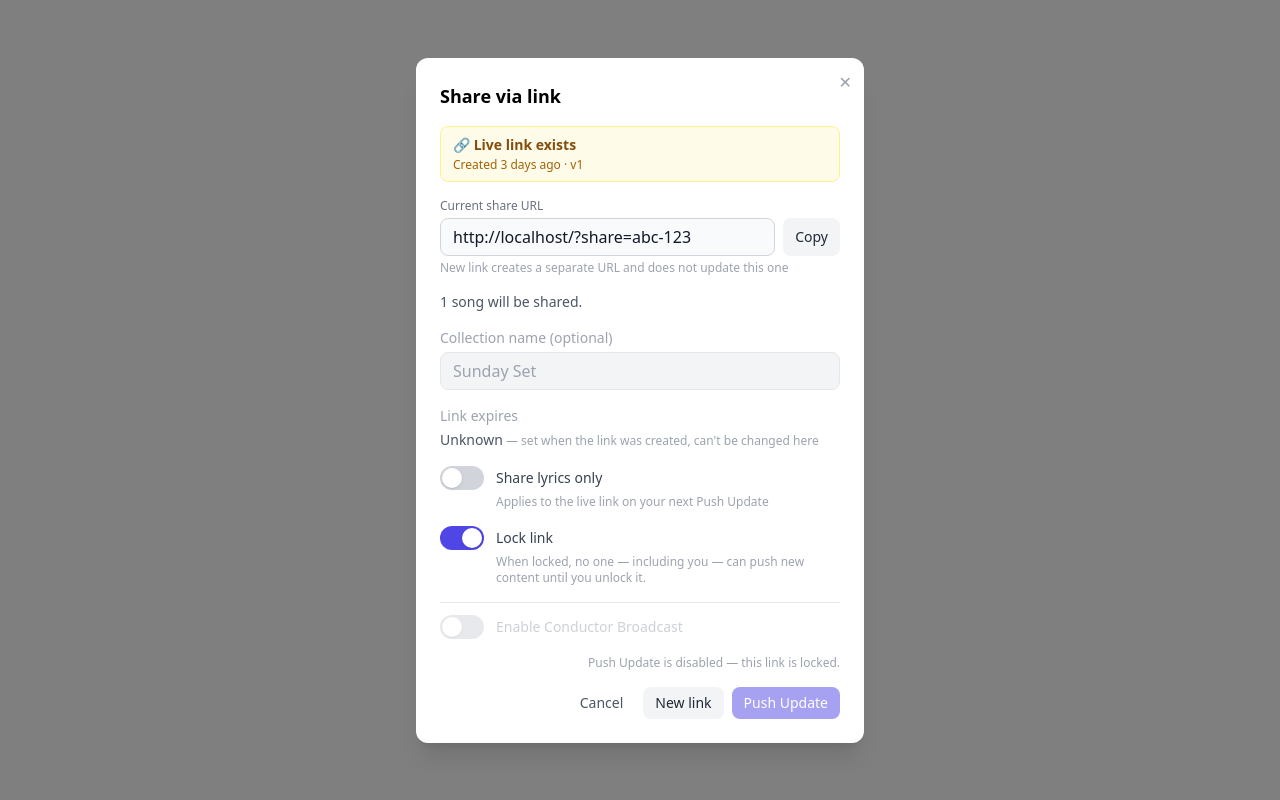
Test: ShareModal — update mode › unlocking with the correct PIN clears the lock and enables Push Update
Click the switch labelled "Lock link".
click(462, 538)  # box [440,526,840,550]
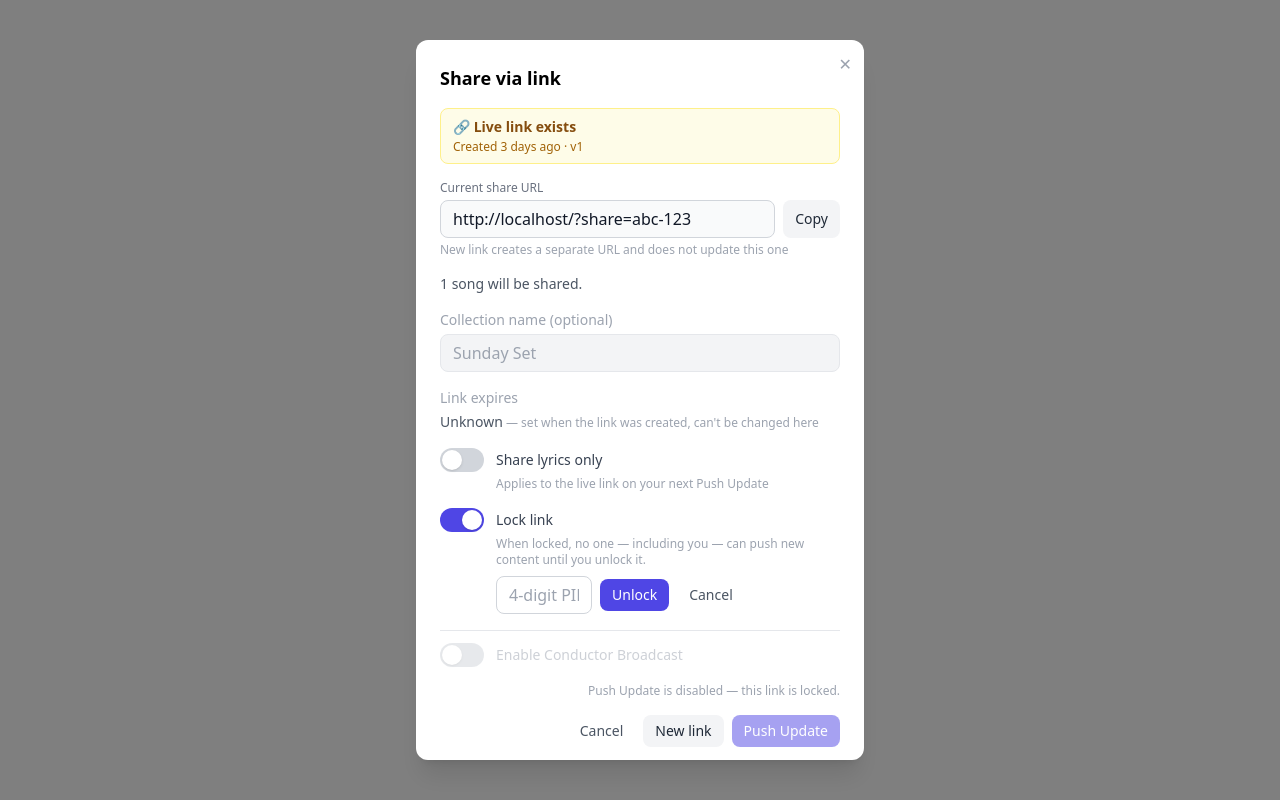
Type "1234" into the field labelled "PIN".
click(544, 595); type("1234")  # box [496,576,592,614]
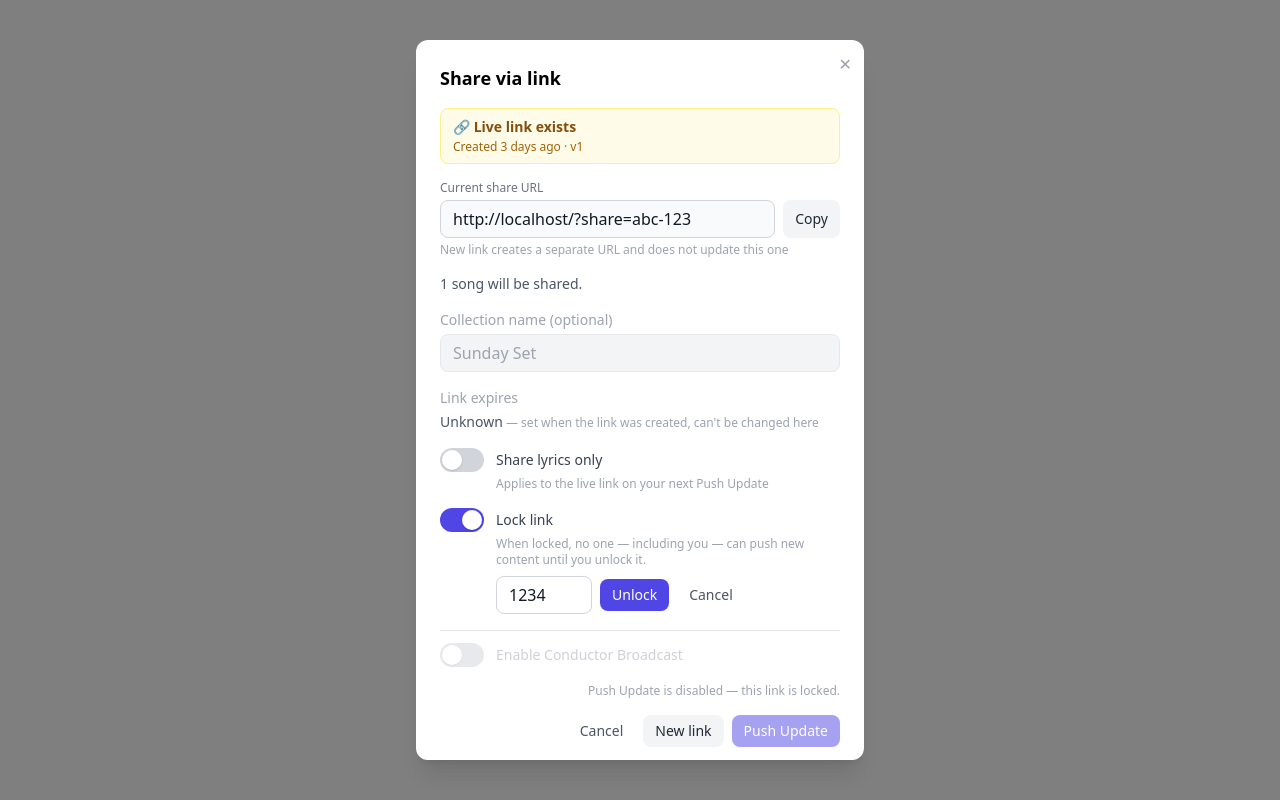
Click the button "Unlock".
click(635, 595)  # box [600,579,669,611]
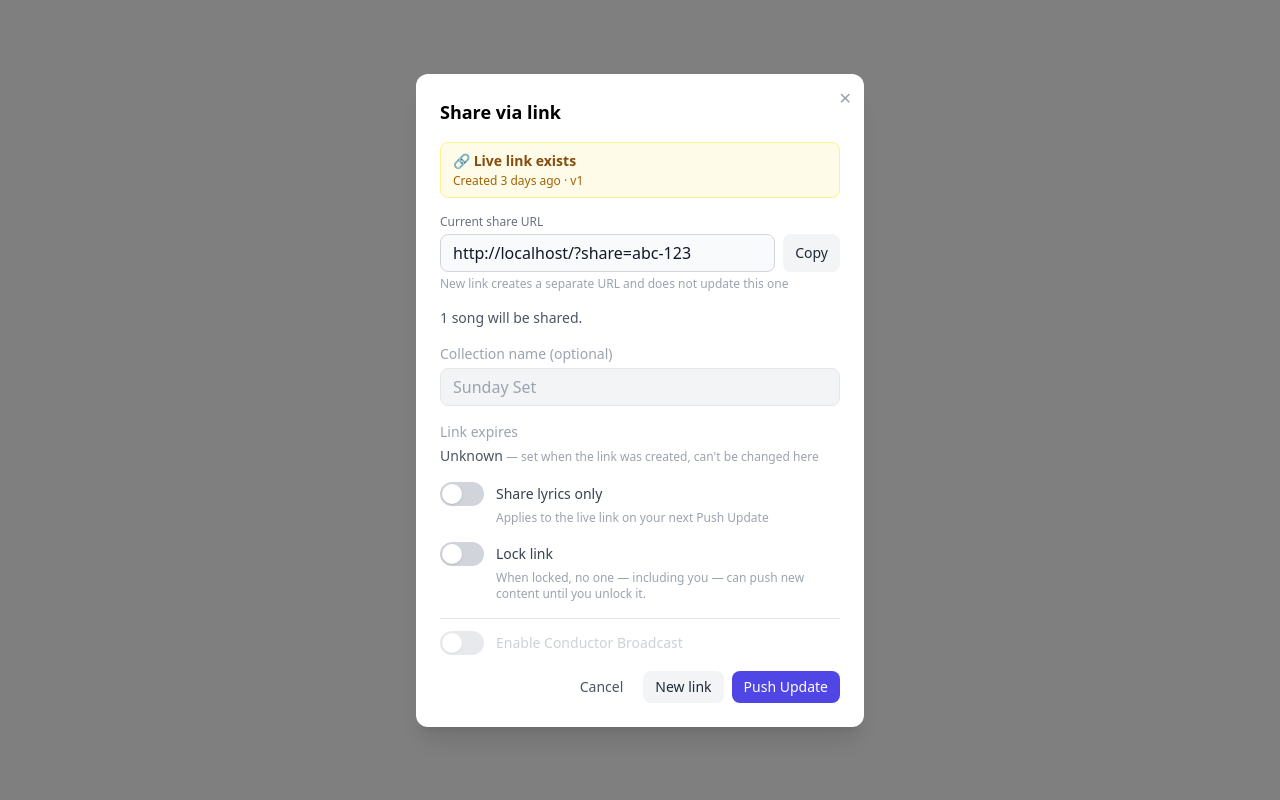
Now the button "Push Update" is enabled, box [732,670,840,702]
